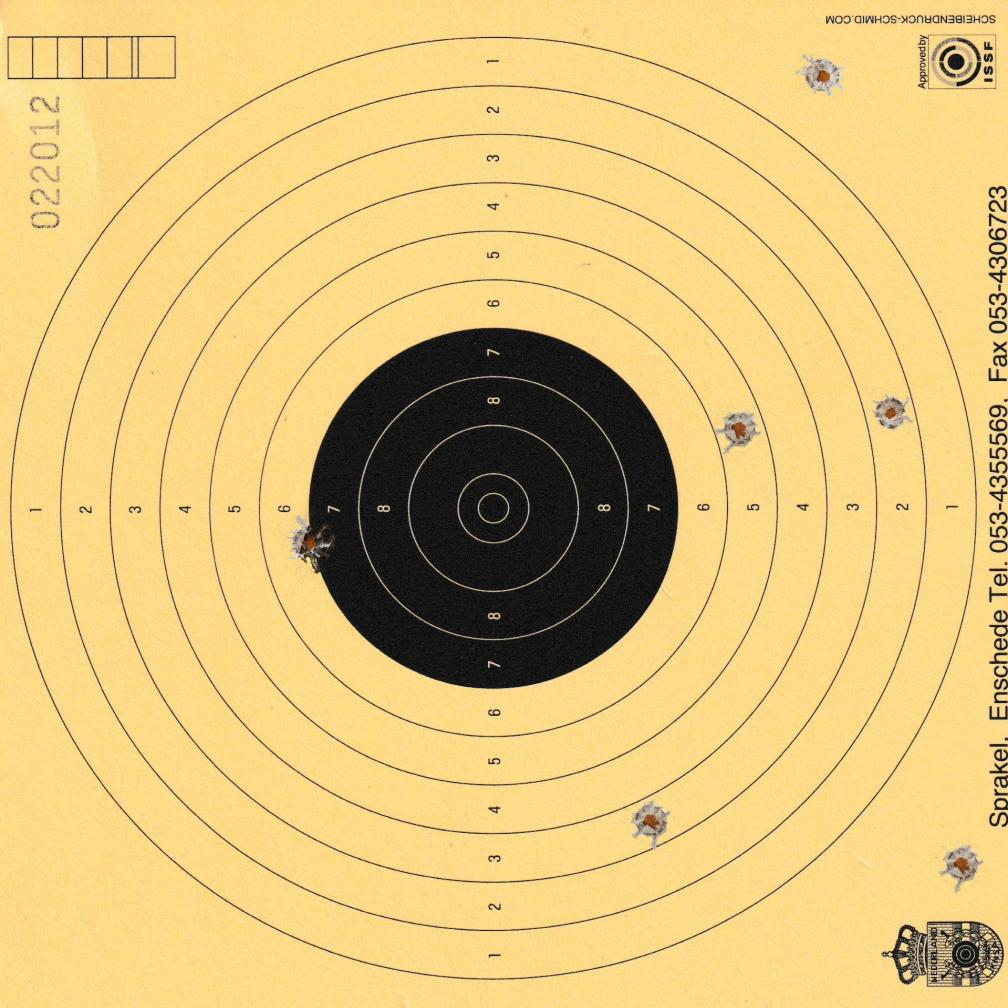0: (791, 49, 851, 103), (938, 843, 988, 894)
2: (868, 390, 917, 432)
3: (620, 795, 678, 851)
5: (710, 405, 768, 459)
7: (286, 518, 340, 577)
Target: (7, 29, 982, 976)
black_contour: (310, 325, 680, 689)
